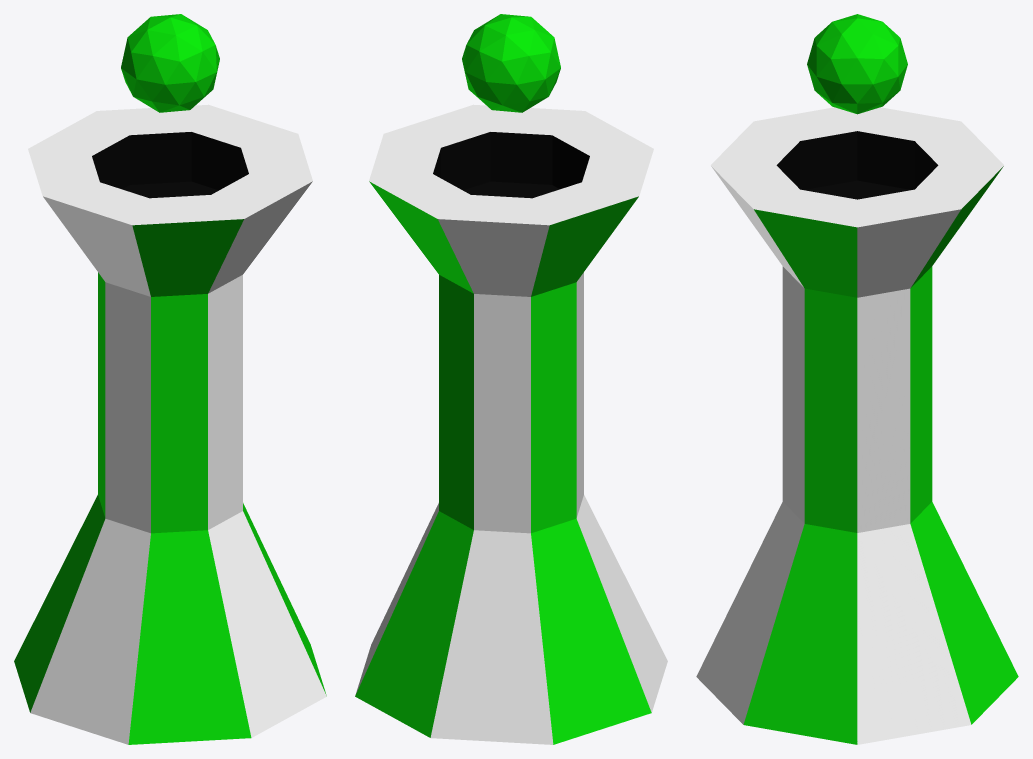
Rendered from tower2.fbx.
The picture shows the model from 3 angles, left to right: view 1: azimuth 30°, elevation 25°; view 2: azimuth 150°, elevation 25°; view 3: azimuth 270°, elevation 25°; orthographic projection.
Visible parts, largest first — view 1: Icosphere.002, Icosphere.003; view 2: Icosphere.002, Icosphere.003; view 3: Icosphere.002, Icosphere.003.
Part boxes in pixels (box(x1,y1,x2,y2)): Icosphere.002: box(14, 104, 326, 744); Icosphere.003: box(121, 14, 219, 112); Icosphere.002: box(355, 104, 667, 744); Icosphere.003: box(462, 14, 560, 112); Icosphere.002: box(696, 107, 1018, 744); Icosphere.003: box(807, 14, 907, 114).
Size of the model in its own units: 1 by 2.25 by 1.
